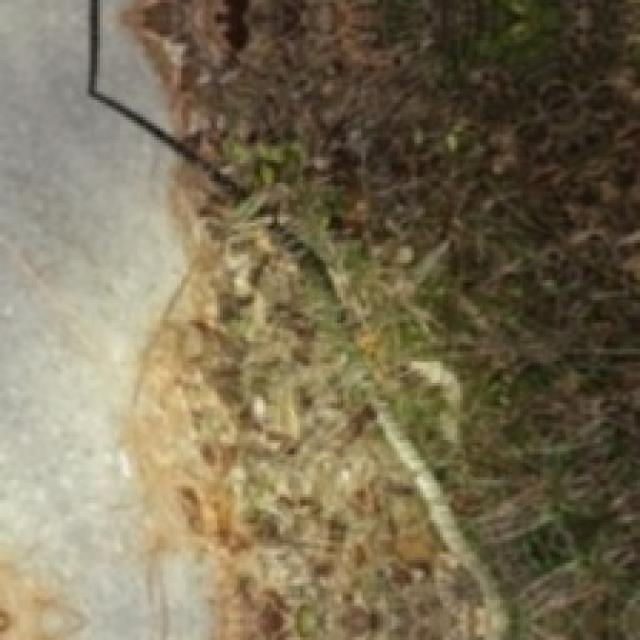king cobra: (91, 0, 506, 637)
